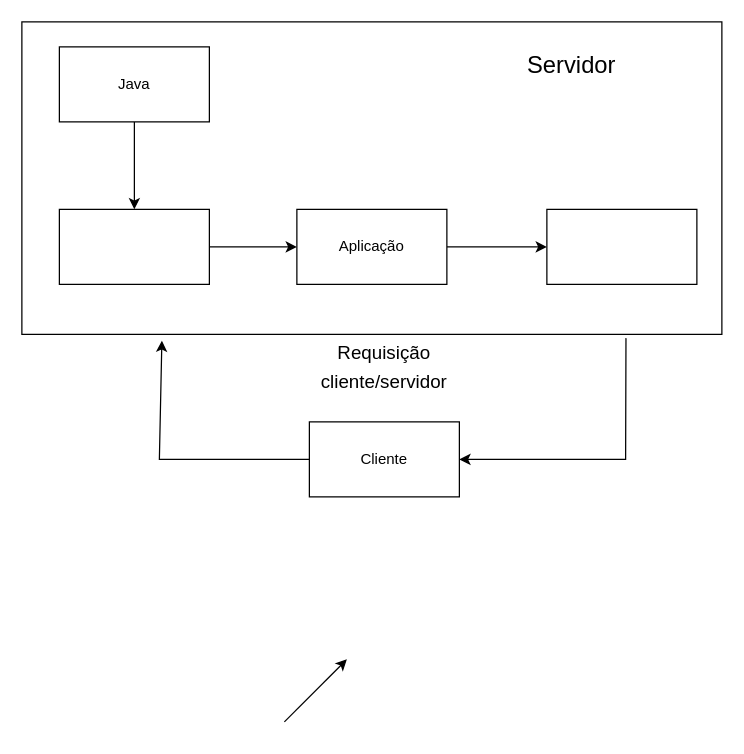
The diagram is 744 pixels wide and 754 high, and some of its shapes have lost their labels. Each missing label, with the centre of its shape:
"Banco de dados" goes at (x=621, y=246).
"Tom cat (Atuando como servidor Web)" goes at (x=133, y=246).
